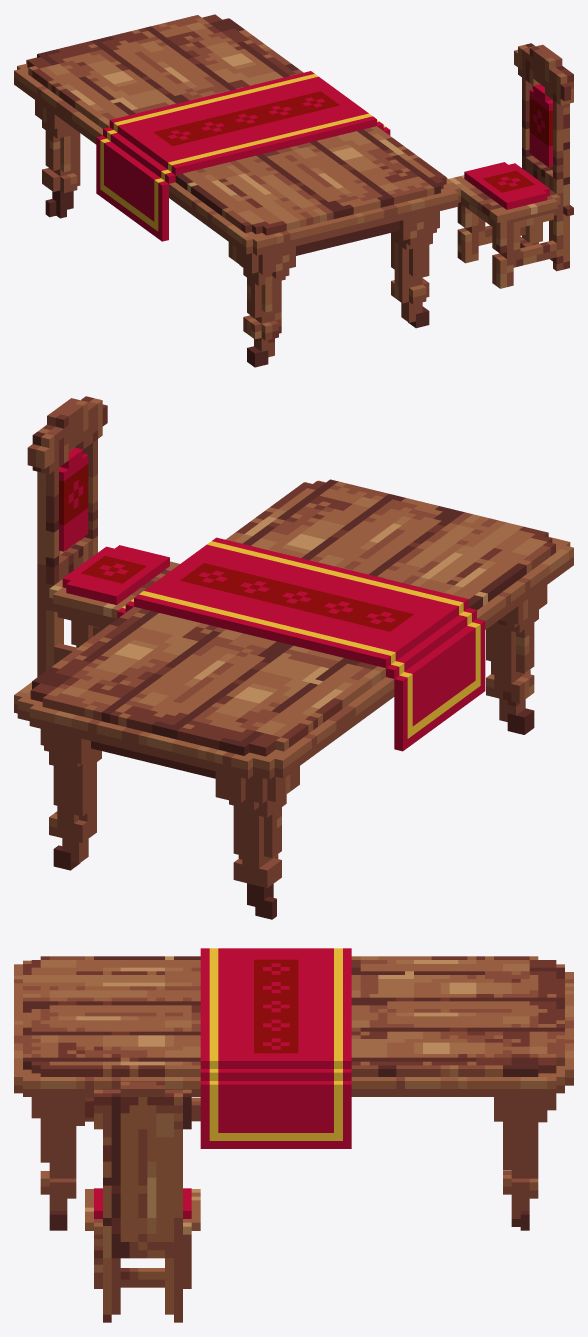
File: tables and chairs.fbx
The picture shows the model from 3 angles, top to bottom: view 1: azimuth 30°, elevation 25°; view 2: azimuth 150°, elevation 25°; view 3: azimuth 270°, elevation 25°; orthographic projection. The views are drawn at different scales.
Parts seen in each view (by area): view 1: table, chair; view 2: table, chair; view 3: table, chair.
Part boxes in pixels (left/top/right/bottom): table: left=14, top=14, right=460, bottom=367; chair: left=449, top=43, right=573, bottom=288; table: left=14, top=479, right=573, bottom=919; chair: left=27, top=396, right=179, bottom=676; table: left=14, top=948, right=573, bottom=1230; chair: left=85, top=1081, right=200, bottom=1322.
Bounding box in the file's own units: 545 × 290 × 630.
